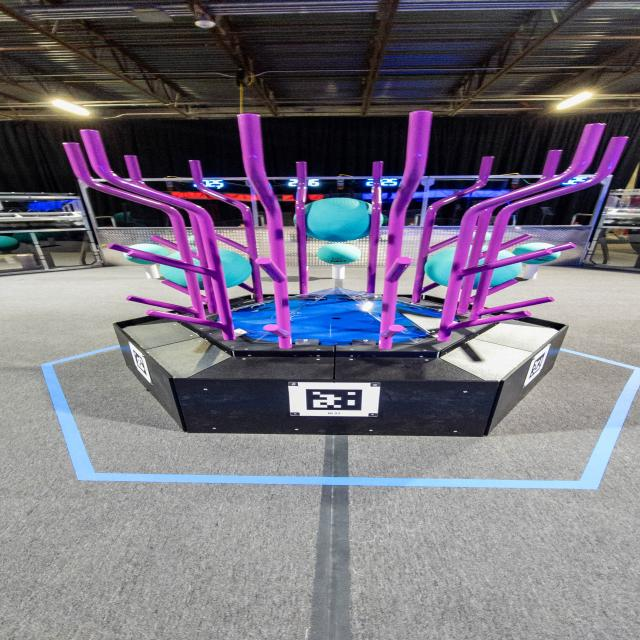Algae: (425, 246, 522, 289), (158, 248, 252, 290), (294, 198, 384, 241), (512, 242, 560, 264), (318, 243, 362, 265), (123, 244, 169, 264)
Coral: (522, 264, 540, 279), (143, 264, 160, 279), (331, 264, 346, 279)
